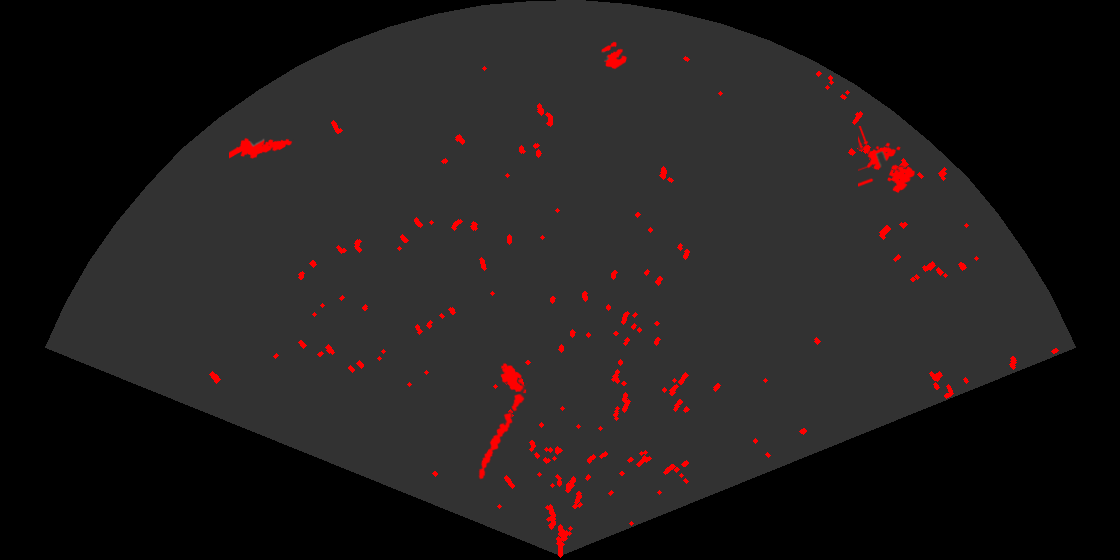AUV: (499, 361, 528, 395)
ball: (600, 40, 629, 71)
cage: (858, 126, 917, 195)
chain: (477, 383, 529, 481)
frogman: (229, 136, 294, 160)
